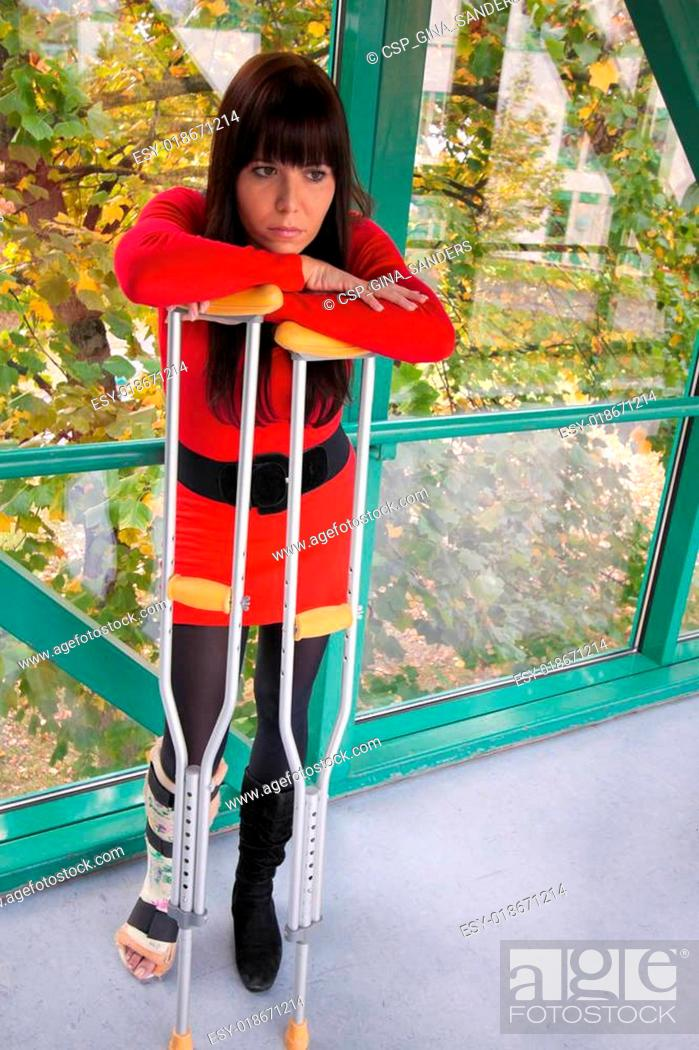crutches: (115, 50, 456, 1050)
